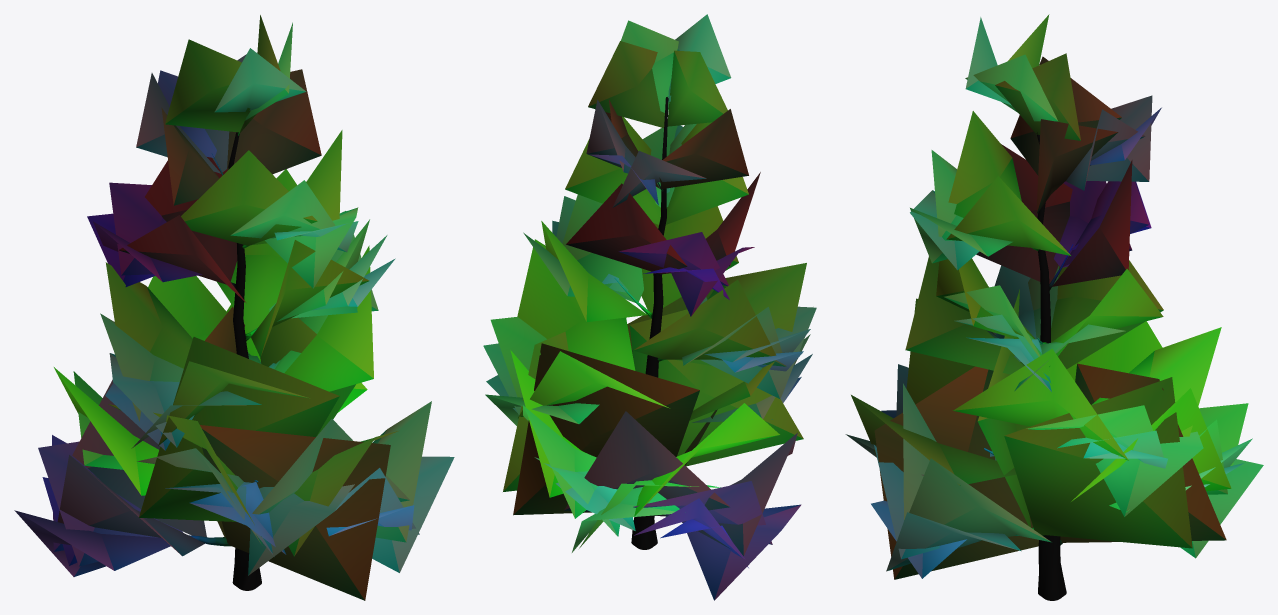
The model's file is SM_HTTree_03.FBX.
3 views of the same model, side by side, from view 1: azimuth 30°, elevation 25°; view 2: azimuth 150°, elevation 25°; view 3: azimuth 270°, elevation 25° (orthographic). The views are drawn at different scales.
Parts seen in each view (by area): view 1: SM_HTTree_03_LOD0; view 2: SM_HTTree_03_LOD0; view 3: SM_HTTree_03_LOD0.
Boxes of the visible parts, <box> form: SM_HTTree_03_LOD0: <box>14,15,454,600</box>; SM_HTTree_03_LOD0: <box>483,14,816,600</box>; SM_HTTree_03_LOD0: <box>845,14,1263,600</box>.
Size of what is drawn, in the model's own units: 288 by 319 by 473.
